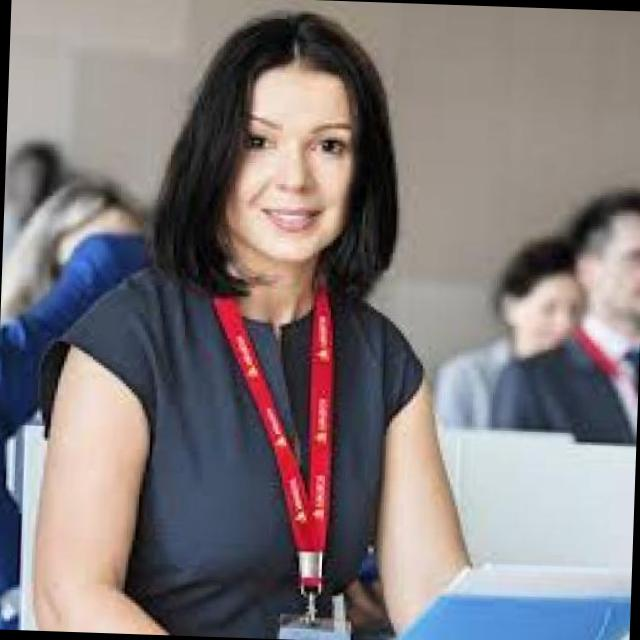id_card: (209, 257, 356, 640)
